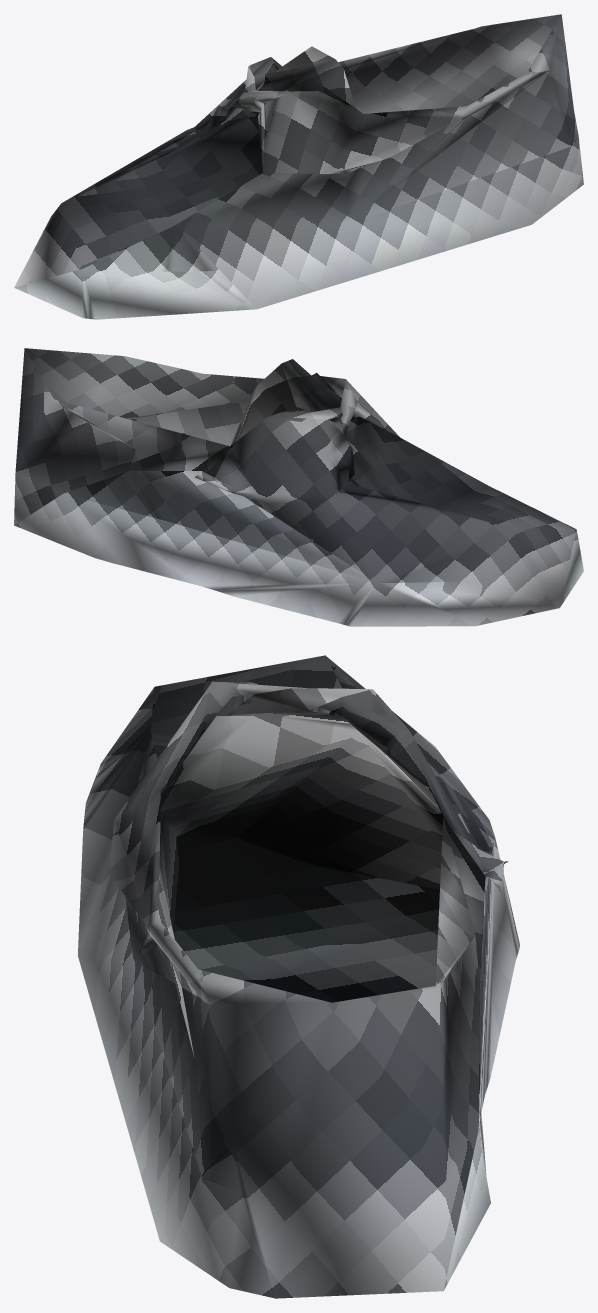
File: Womens_Canvas_Bahama_in_Black-low.glb
The picture shows the model from 3 angles, top to bottom: view 1: azimuth 30°, elevation 25°; view 2: azimuth 150°, elevation 25°; view 3: azimuth 270°, elevation 25°; orthographic projection. The views are drawn at different scales.
Visible parts, largest first — view 1: Womens_Canvas_Bahama_in_Black; view 2: Womens_Canvas_Bahama_in_Black; view 3: Womens_Canvas_Bahama_in_Black.
Part boxes in pixels (x1,y1,x2,y2): Womens_Canvas_Bahama_in_Black: (14,14,583,319); Womens_Canvas_Bahama_in_Black: (14,348,583,626); Womens_Canvas_Bahama_in_Black: (78,655,519,1298).
Size of the model in its own units: 0.2382 by 0.0795 by 0.0851.
1 material, 1 textured.
